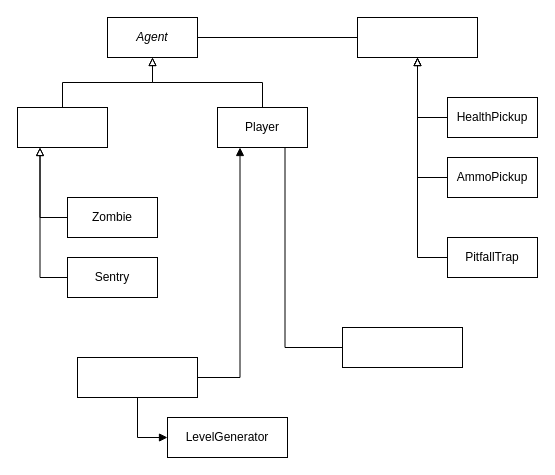
Some shapes in this 555 by 475 pixel diagram are drawn without their labels. The shapes that lost their labels are listed below. From the top down, each one's centre as x and y in pixels, then its label:
At (x=417, y=37): "IAgentInteractable".
At (x=62, y=127): "Enemy".
At (x=402, y=347): "MainCamera".
At (x=137, y=377): "GameManager".
